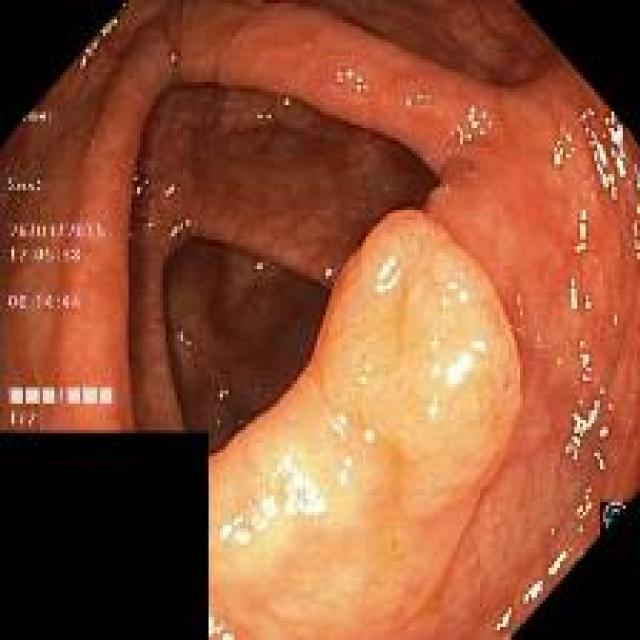Polyps: (211, 213, 521, 639)
